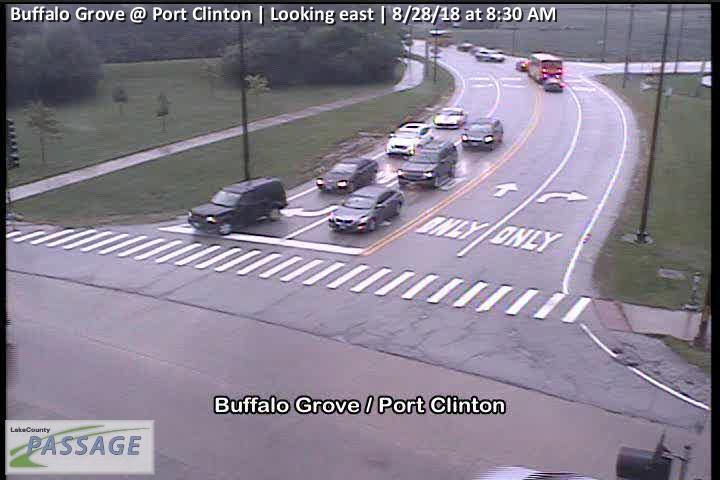SUV: (184, 176, 289, 236)
Sedan: (327, 186, 404, 234), (396, 139, 458, 188), (314, 156, 378, 191), (386, 122, 433, 155), (461, 117, 504, 149), (434, 107, 467, 130), (544, 79, 564, 92), (474, 50, 490, 61), (456, 42, 471, 52), (515, 58, 527, 70), (491, 50, 504, 61)
Truck: (526, 52, 563, 83)
